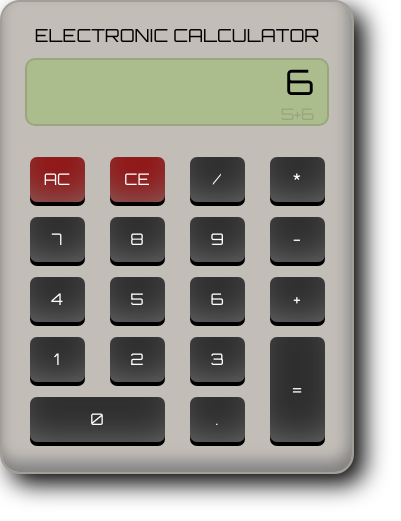
method pressPoint › renders 0. at inputValue and expression after two presses
This screenshot has width=401, height=521.
expect the text with class "Calc__input-value" reads "6": met, box [285,60,314,104]
expect the text with class "Calc__expression" reads "5+6": met, box [281,104,314,124]
Click the text with class "Calc__button_right": (297, 389) [270,336,324,442]
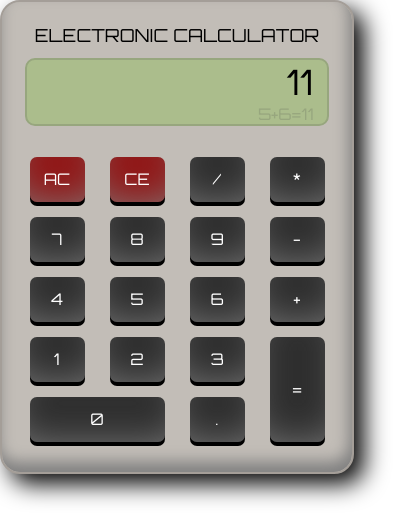
Click the text with class "Calc__button_FiR": (217, 419) [190,396,244,442]
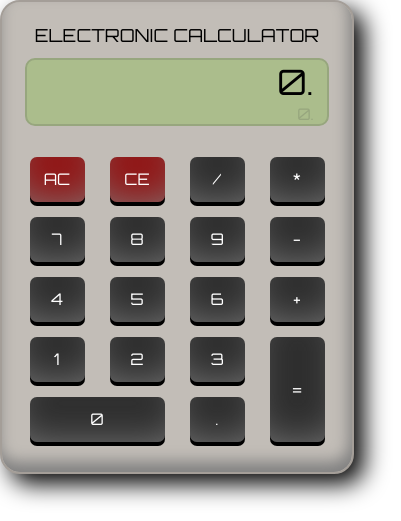
expect the text with class "Calc__expression" reads "0.": met, box [297,104,314,124]
expect the text with class "Calc__input-value" reads "0.": met, box [277,60,314,104]
